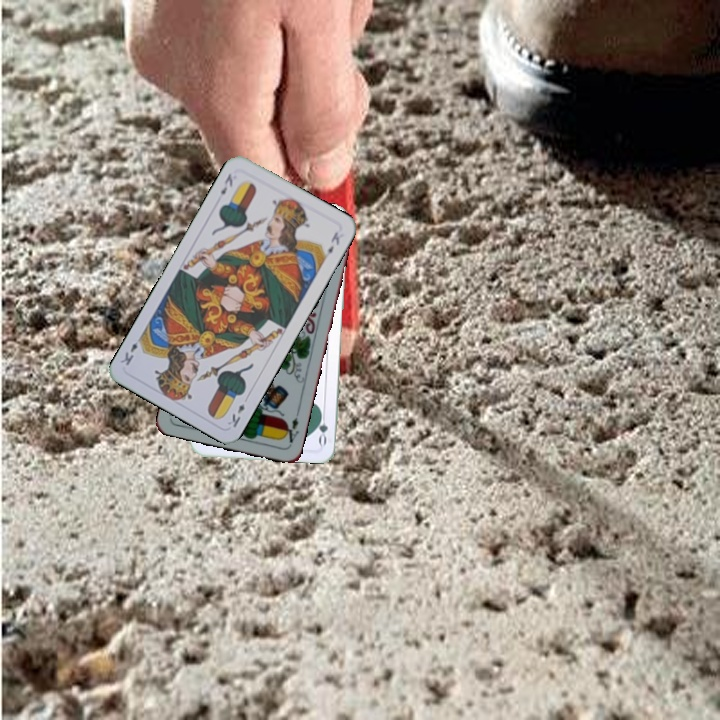EA: (279, 413, 301, 447)
EK: (223, 400, 247, 430), (216, 169, 235, 197)
GO: (314, 406, 330, 447)
